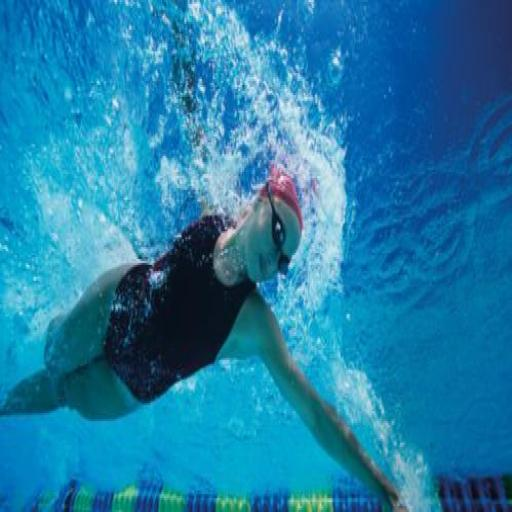swimming: (0, 158, 410, 510)
